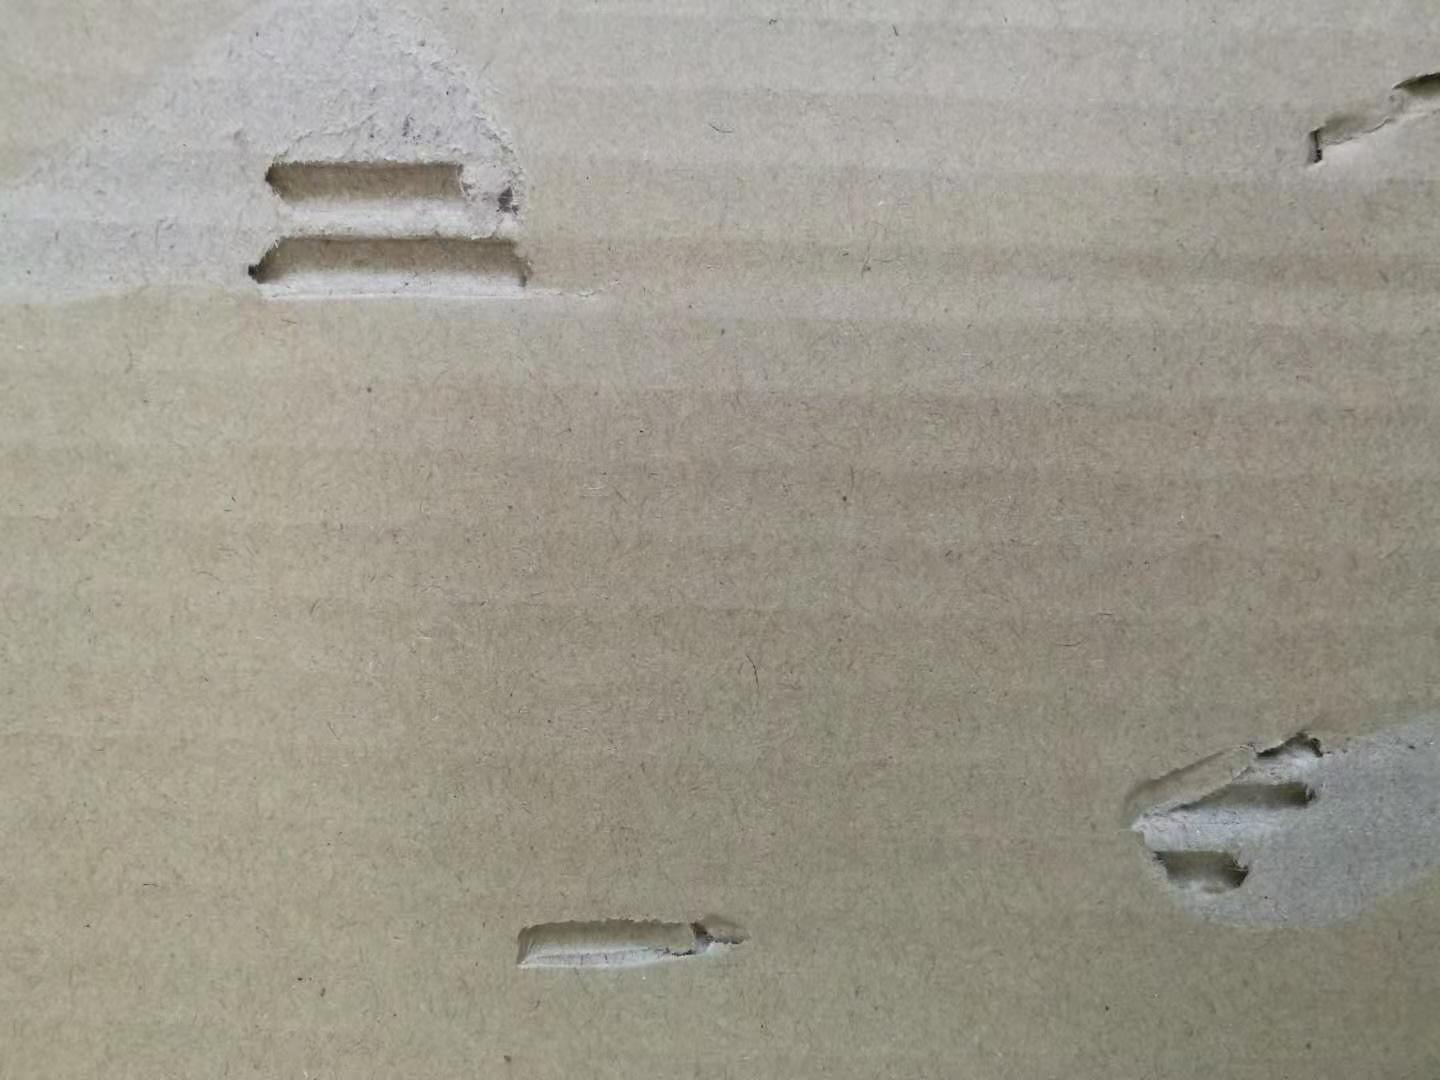defect: (2, 3, 620, 351), (1093, 670, 1440, 952), (495, 875, 781, 1002), (1268, 44, 1440, 195)
